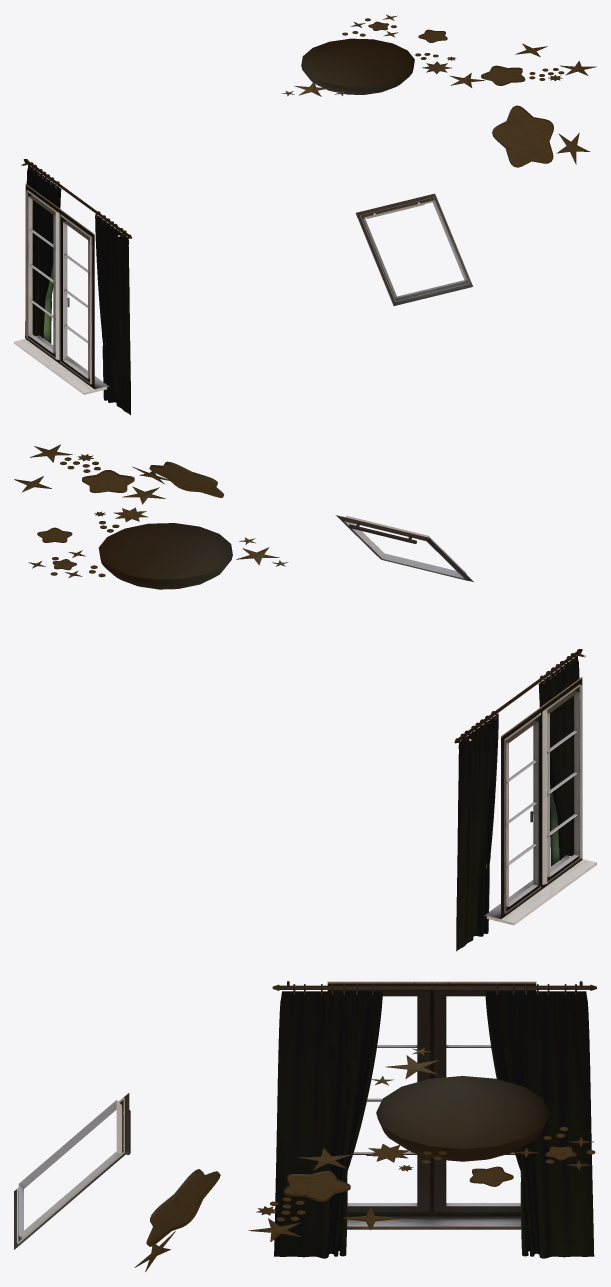
Rendered from G2_SM_fenetreplafonier_combined.gltf.
3 renders of one model, top to bottom at view 1: azimuth 30°, elevation 25°; view 2: azimuth 150°, elevation 25°; view 3: azimuth 270°, elevation 25°, orthographic. The views are drawn at different scales.
Visible parts, largest first — view 1: fenetre et plafonier; view 2: fenetre et plafonier; view 3: fenetre et plafonier.
Boxes of the visible parts, x1,y1,x2,y2 form: fenetre et plafonier: (14, 14, 596, 414); fenetre et plafonier: (14, 444, 596, 951); fenetre et plafonier: (14, 980, 596, 1271).
Bounding box in the file's own units: 3.61 × 1.65 × 2.44.
